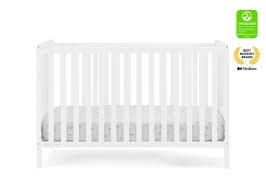crib: (37, 39, 229, 170)
